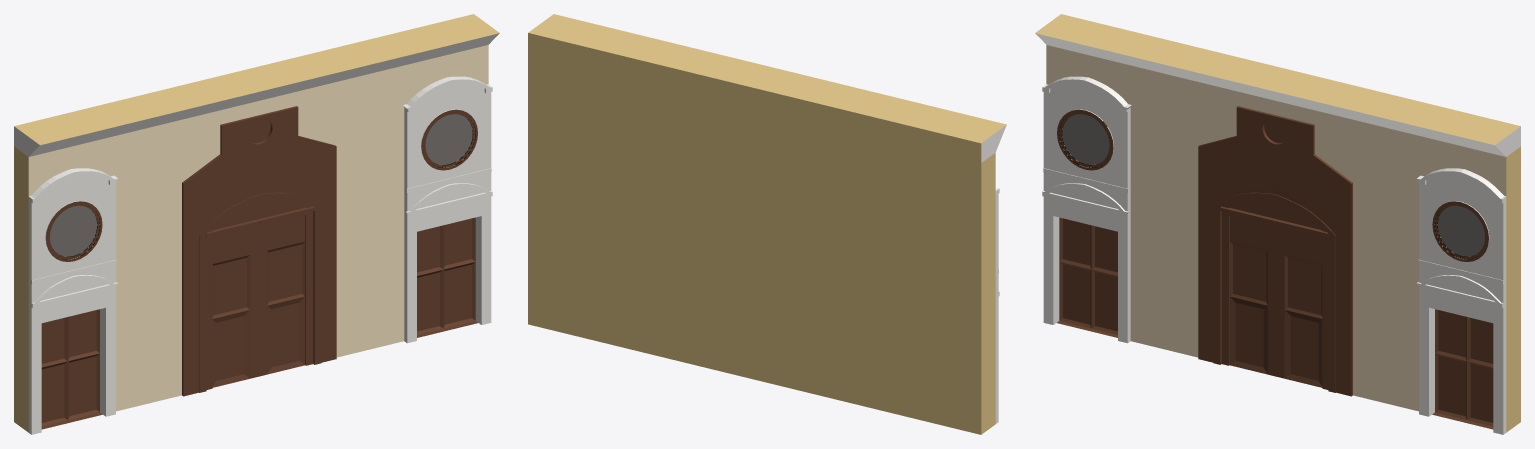
Rendered from SallePasPerdus_Mur02.fbx.
3 renders of one model, left to right at view 1: azimuth 30°, elevation 25°; view 2: azimuth 150°, elevation 25°; view 3: azimuth 330°, elevation 25°, orthographic.
Visible parts, largest first — view 1: Mur02; view 2: Mur02; view 3: Mur02.
Boxes of the visible parts, x1,y1,x2,y2 form: Mur02: (14,14,499,434); Mur02: (528,14,1006,434); Mur02: (1035,14,1520,434).
Size of the model in its own units: 9.67 by 5.94 by 0.9512.
